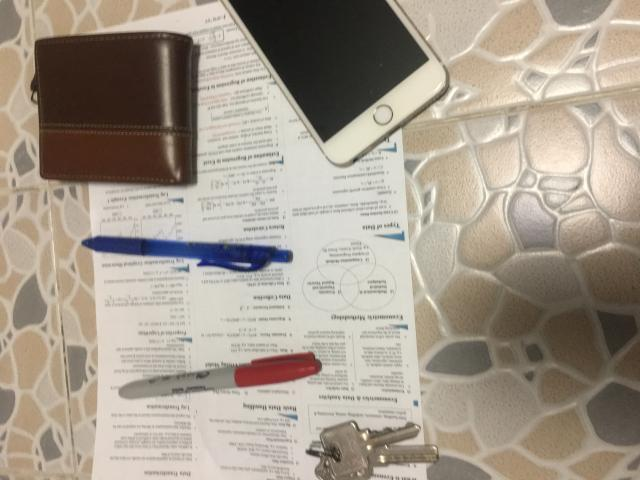Keys: (306, 421, 439, 480)
Mobile phone: (222, 0, 449, 166)
Pen: (119, 352, 321, 399), (81, 236, 292, 271)
Wallet: (32, 31, 194, 184)
paper: (80, 0, 429, 480)
